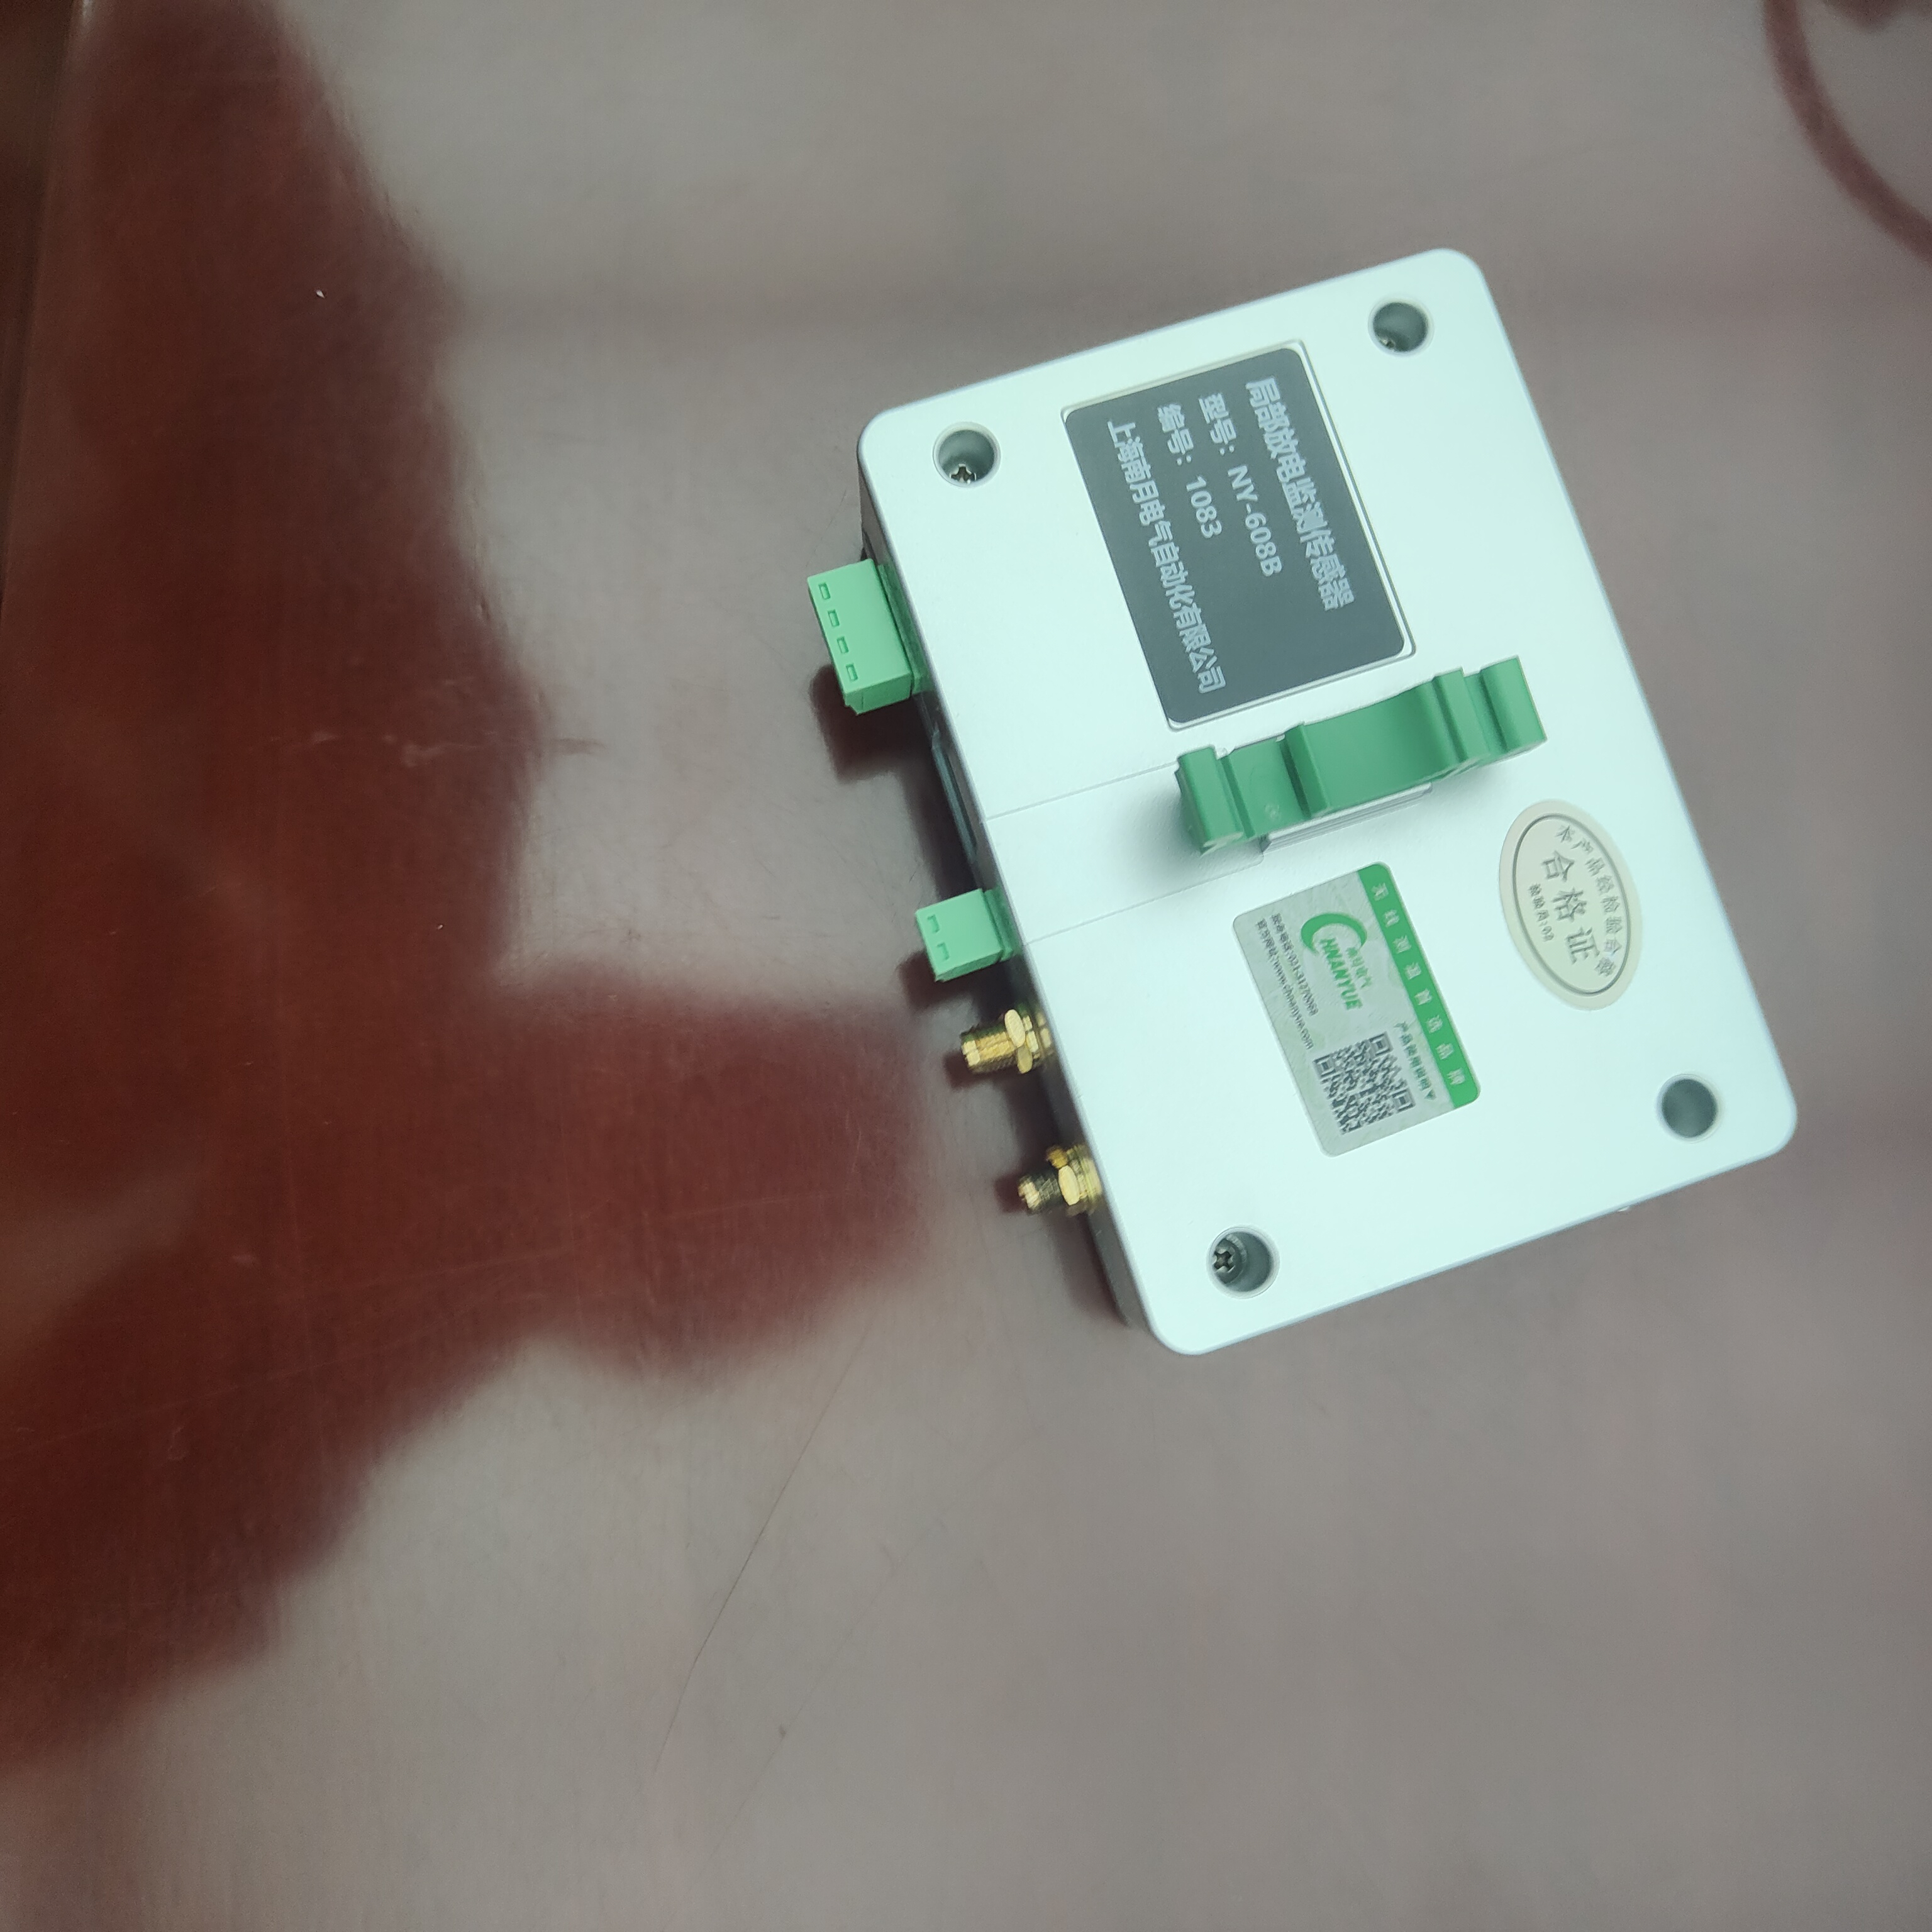jbfdjc: (793, 232, 1815, 1376)
